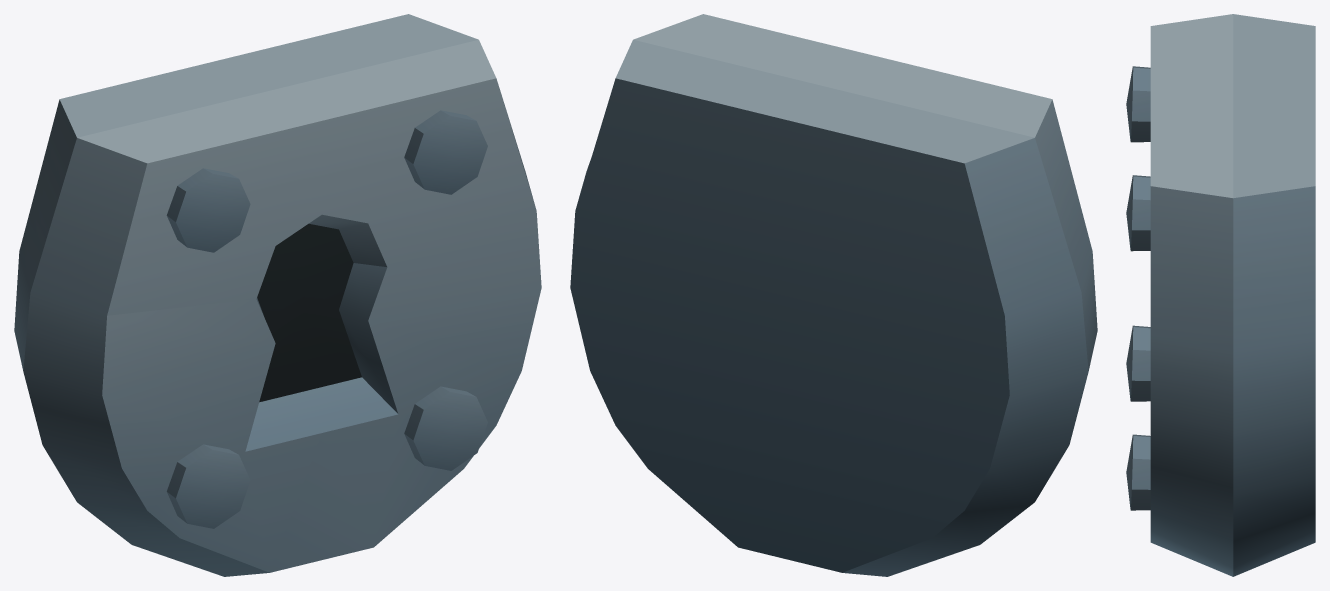
Rendered from lock_B.obj.
3 renders of one model, left to right at view 1: azimuth 30°, elevation 25°; view 2: azimuth 150°, elevation 25°; view 3: azimuth 270°, elevation 25°, orthographic. The views are drawn at different scales.
Parts seen in each view (by area): view 1: lock_B; view 2: lock_B; view 3: lock_B.
Part boxes in pixels (box(x1,y1,x2,y2)): lock_B: box(14, 14, 541, 576); lock_B: box(570, 14, 1097, 576); lock_B: box(1126, 14, 1315, 576).
Size of the model in its own units: 0.6626 by 0.5908 by 0.2272.
1 material, 1 textured.
